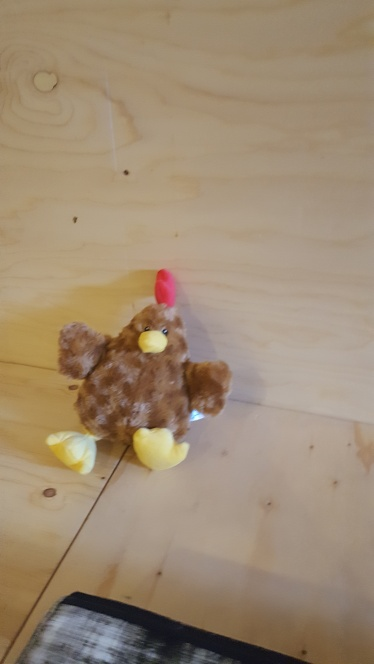chicken_front: (46, 267, 233, 475)
